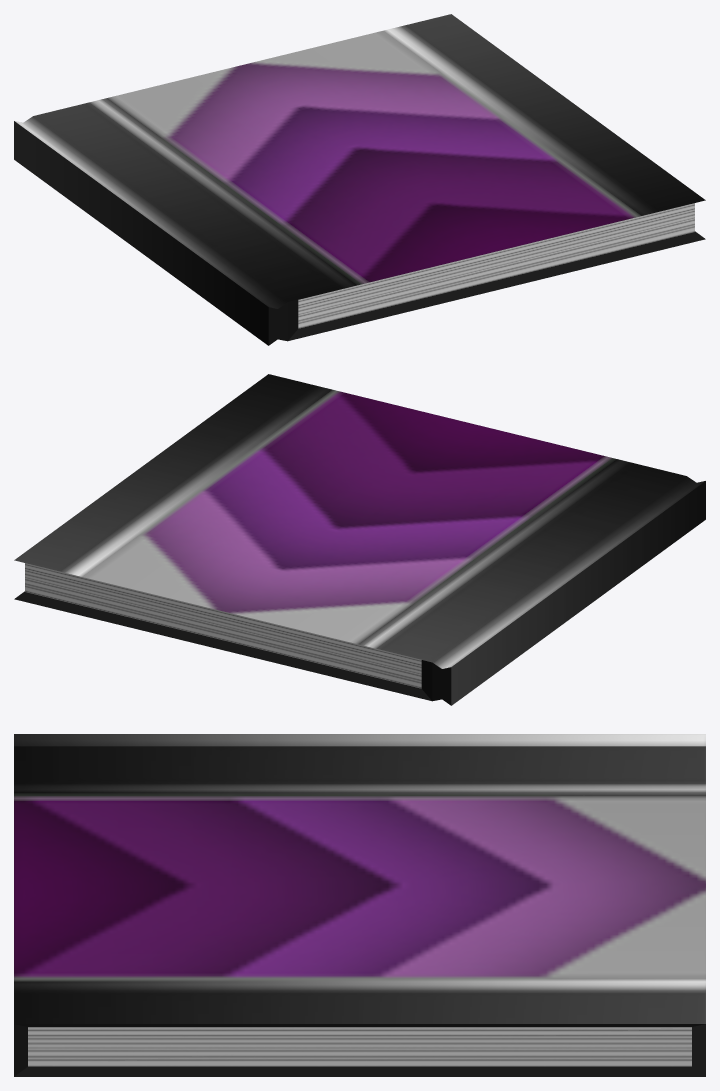
File: Coffeetable_book_A.FBX
3 views of the same model, one above another, from view 1: azimuth 30°, elevation 25°; view 2: azimuth 150°, elevation 25°; view 3: azimuth 270°, elevation 25° (orthographic). The views are drawn at different scales.
Visible parts, largest first — view 1: Coffee_Table_Book; view 2: Coffee_Table_Book; view 3: Coffee_Table_Book.
Boxes of the visible parts, x1,y1,x2,y2 form: Coffee_Table_Book: [14, 14, 705, 345]; Coffee_Table_Book: [14, 374, 705, 705]; Coffee_Table_Book: [14, 734, 705, 1076].
Bounding box in the file's own units: 94.24 × 8 × 95.
